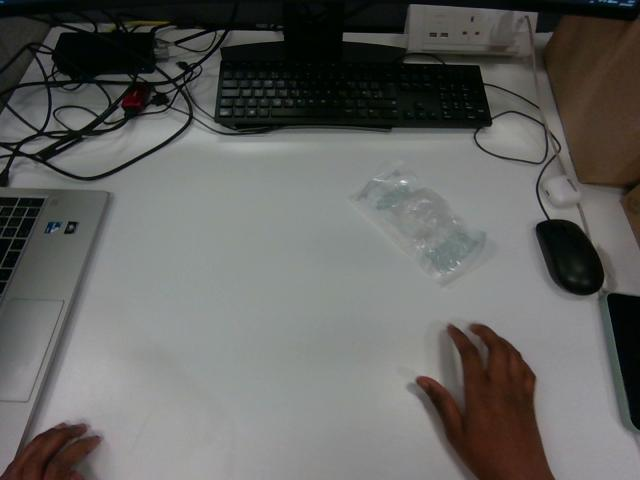gallipot: (351, 161, 485, 285)
